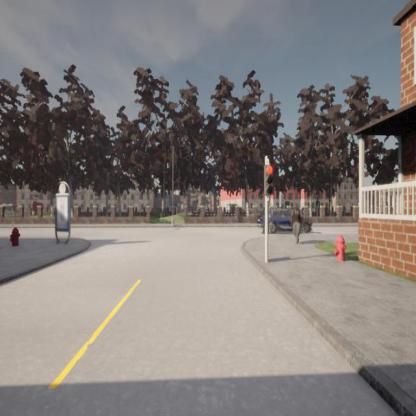person: (290, 204, 303, 244)
traffic_light_red: (266, 164, 274, 194)
vehicle: (259, 211, 292, 234)
